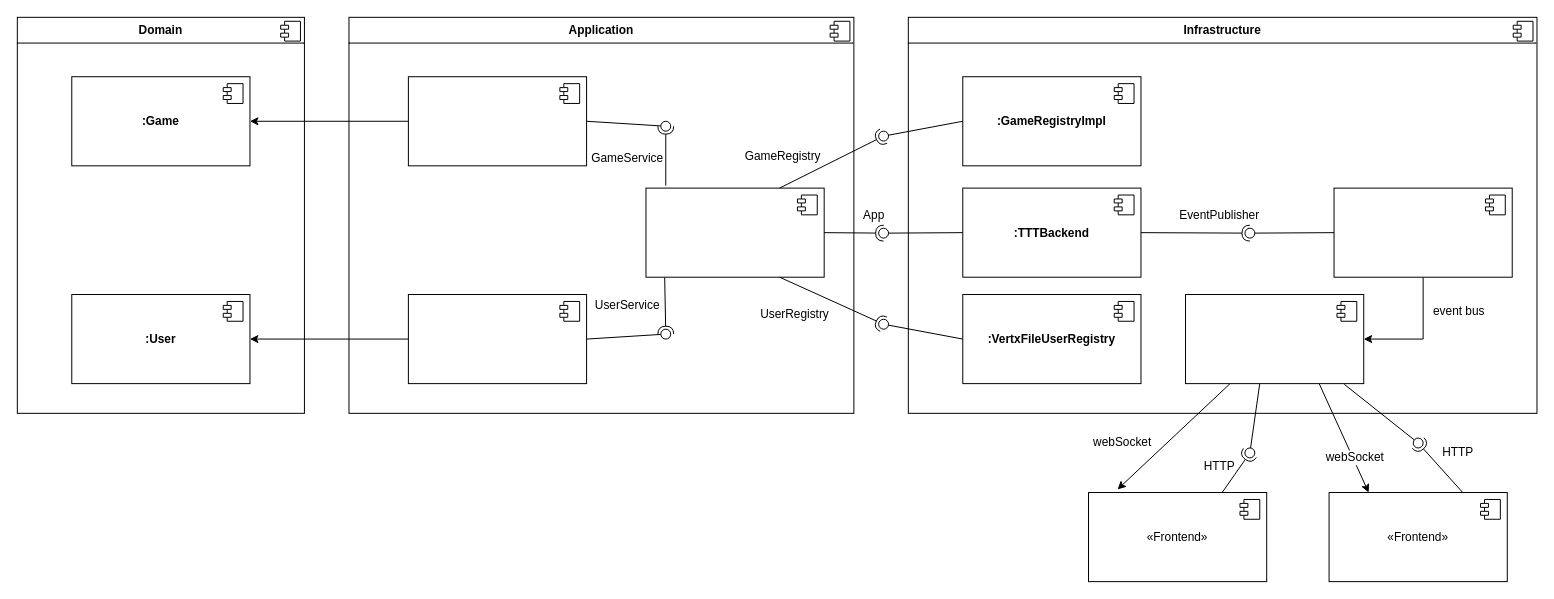
Some shapes in this 1554 by 599 pixel diagram are drawn without their labels. The centre of each missing label's shape, as x and y in pixels:
":AppImpl" belongs at point 734,232.
":GameServiceImpl" belongs at point 497,121.
":HttpCommunication" belongs at point 1274,339.
":UserServiceImpl" belongs at point 497,339.
":VertxEventPublisher" belongs at point 1422,232.
